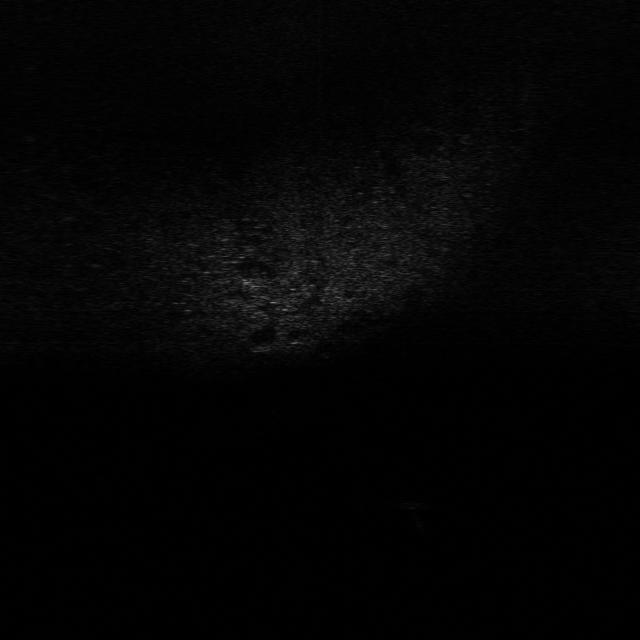cylinder: (398, 498, 432, 519)
